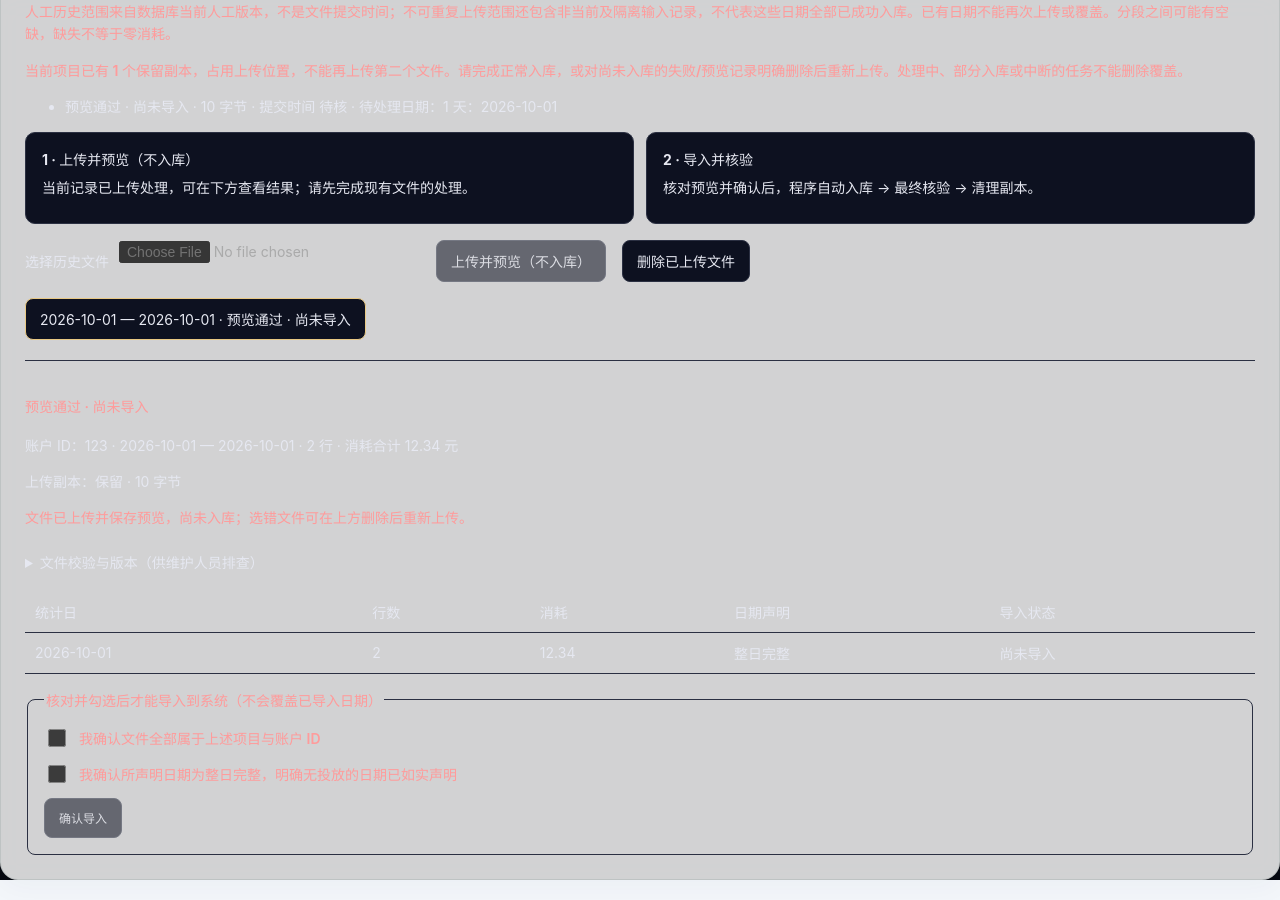
Test: history upload confirmation and isolation › stops polling after an explicit pre-execution refusal and clears confirmations
(page scrolled)
Click the checkbox labelled "我确认文件全部属于上述项目与账户 ID" at (57, 738), box [48,729,66,747]
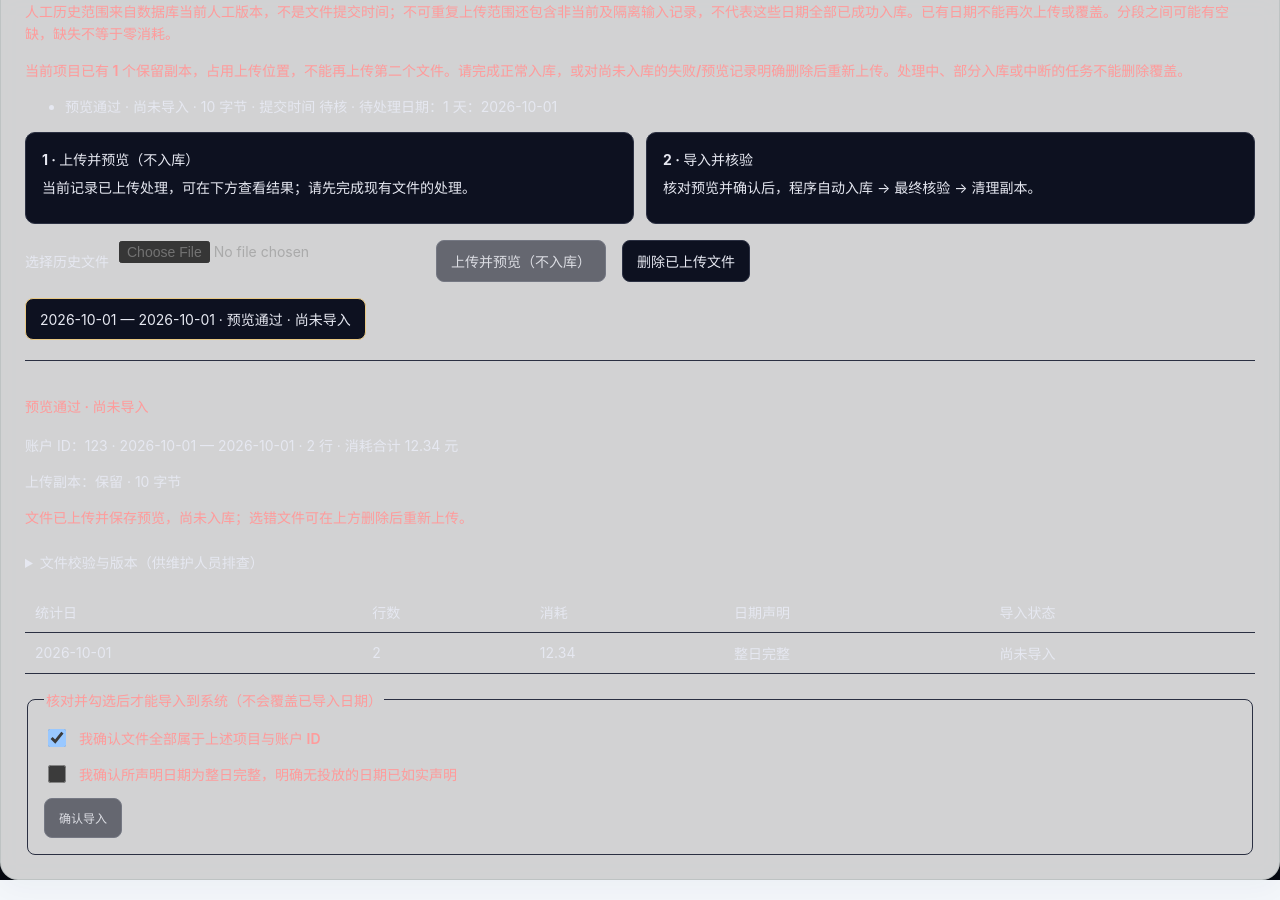
Click the checkbox labelled "我确认所声明日期为整日完整，明确无投放的日期已如实声明" at (57, 774), box [48,765,66,783]
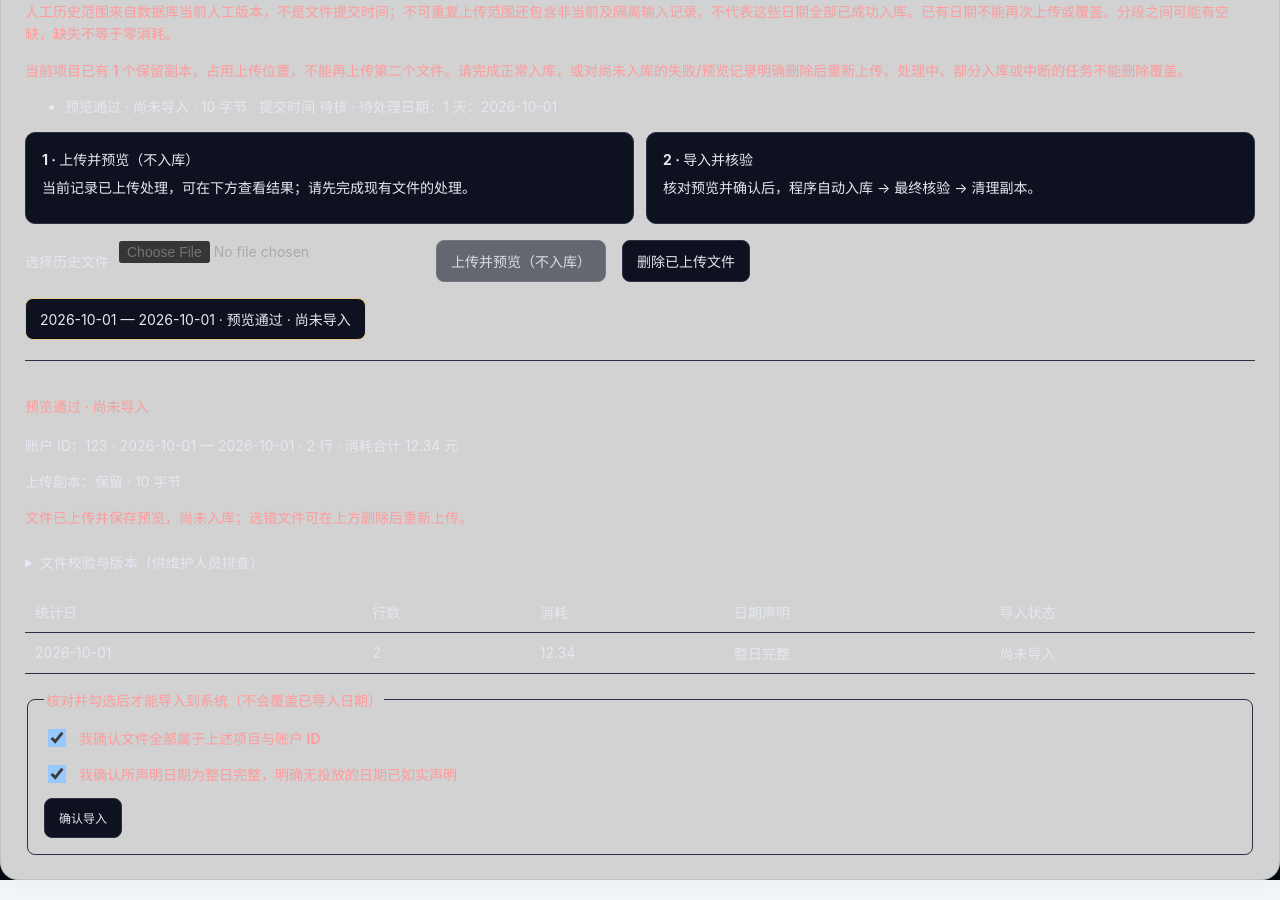
Click the button "确认导入" at (83, 818), box [44,798,122,838]
Wait 6000 ms
(page scrolled)
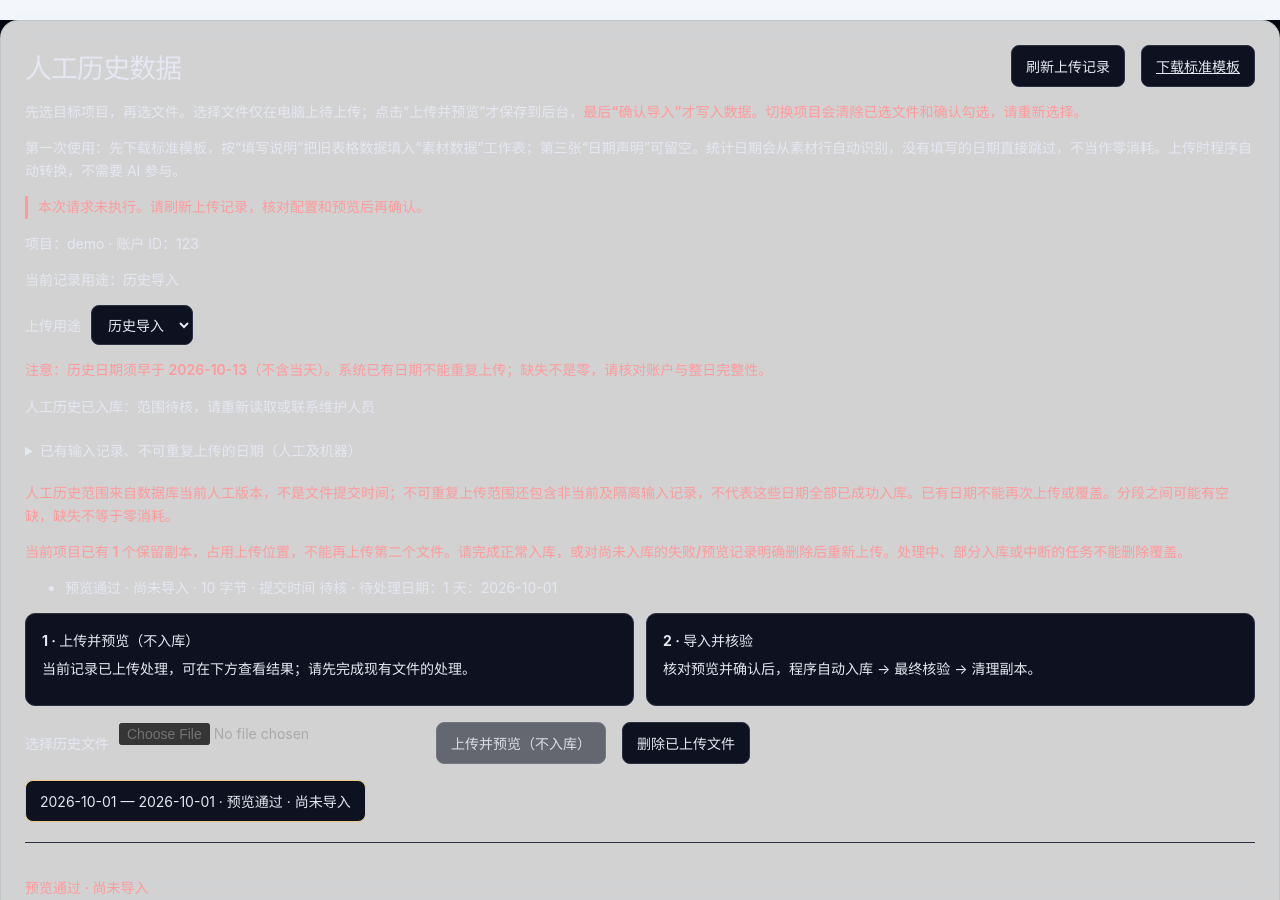
Result: the message "本次请求未执行。请刷新上传记录，核对配置和预览后再确认。" is shown at [25,196,1255,219]
